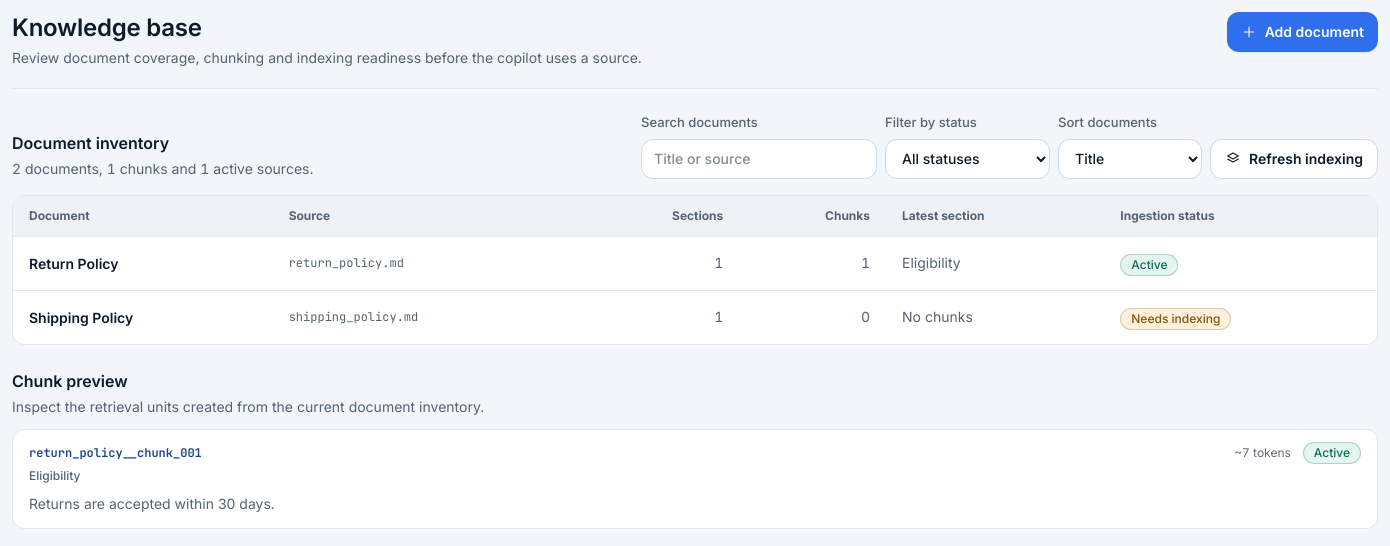
Scenario: KnowledgeWorkspace › filters documents by title, source and status
Type "return" into the search field labelled "Search documents" at point(759, 158), box [641,138,877,178]
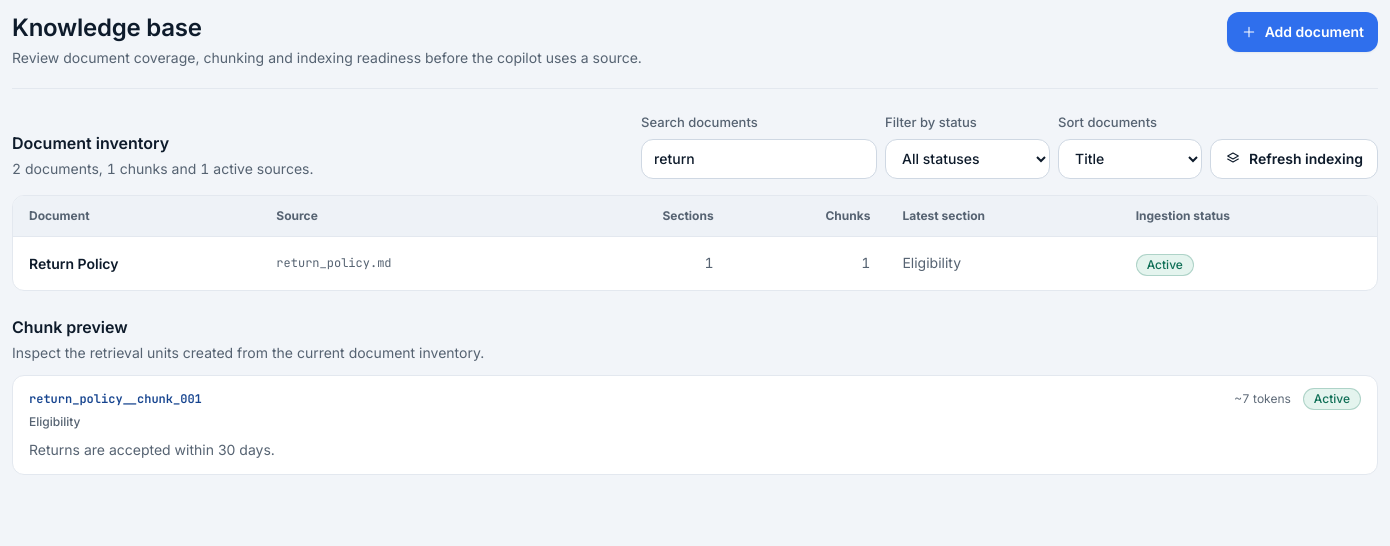
Expected: the row "Return Policy return_policy.md 1 1 Eligibility Active" is shown, [13,236,1377,290]
Expected: the button "Shipping Policy" is gone
Replace the text in the search field labelled "Search documents" with "shipping_policy.md" at point(759, 158), box [641,138,877,178]
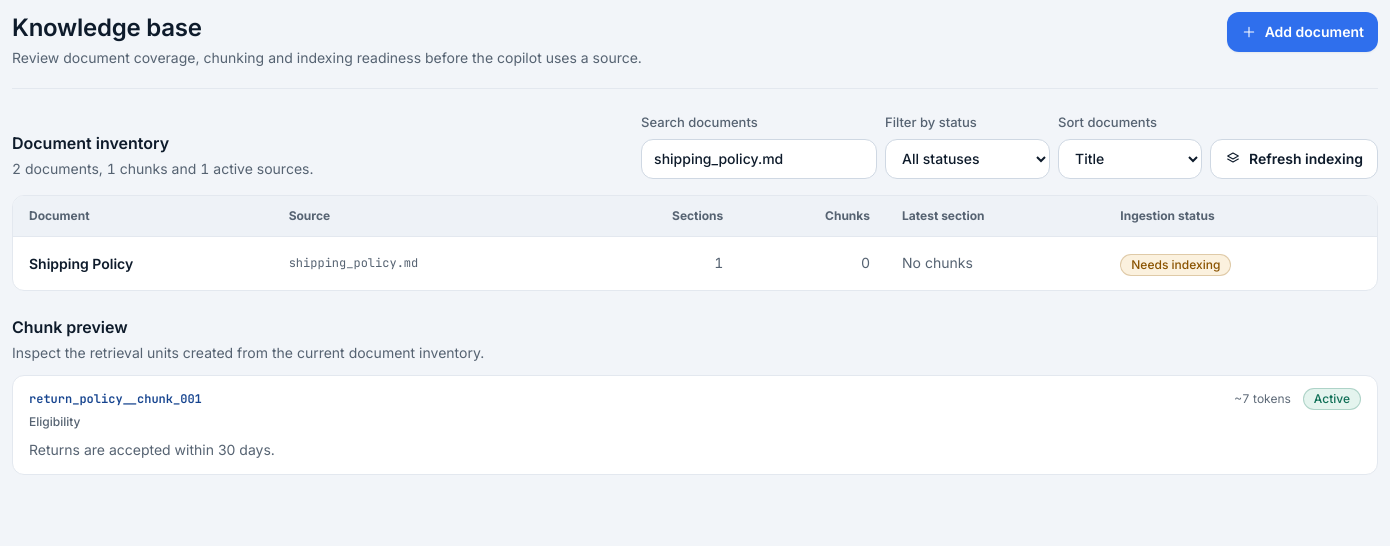
Expected: the row "Shipping Policy" is shown, [13,236,1377,290]
Expected: the button "Return Policy" is gone
Clear the search field labelled "Search documents" at point(759, 158), box [641,138,877,178]
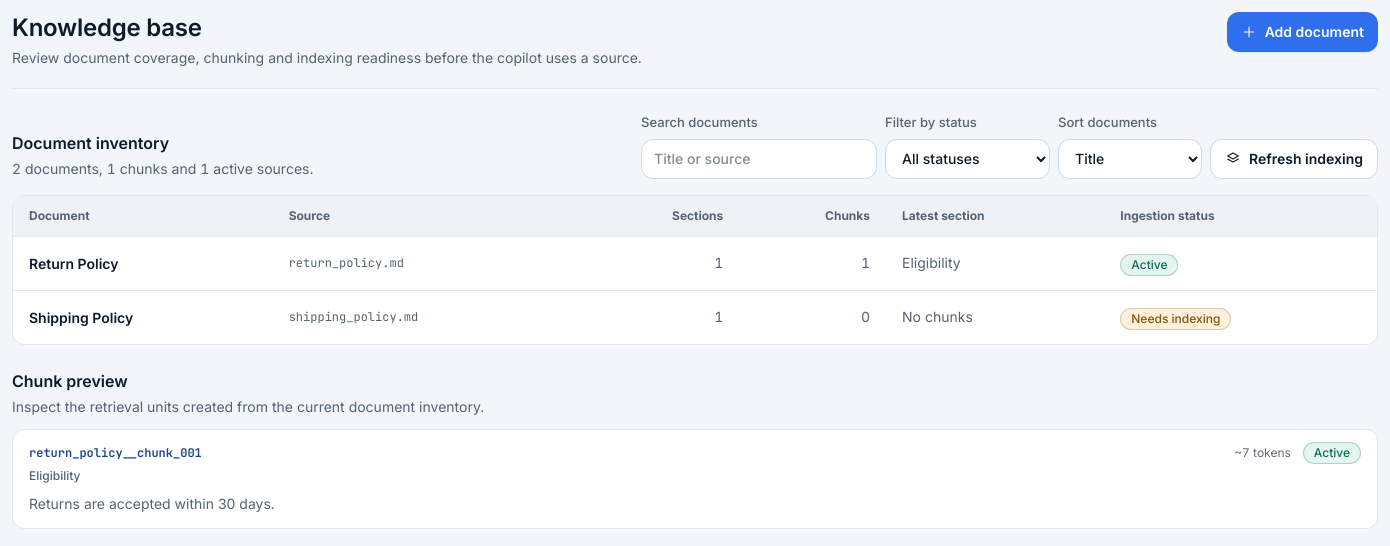
Select "Needs indexing" in the dropdown labelled "Filter by status" at point(968, 158), box [885,138,1050,178]
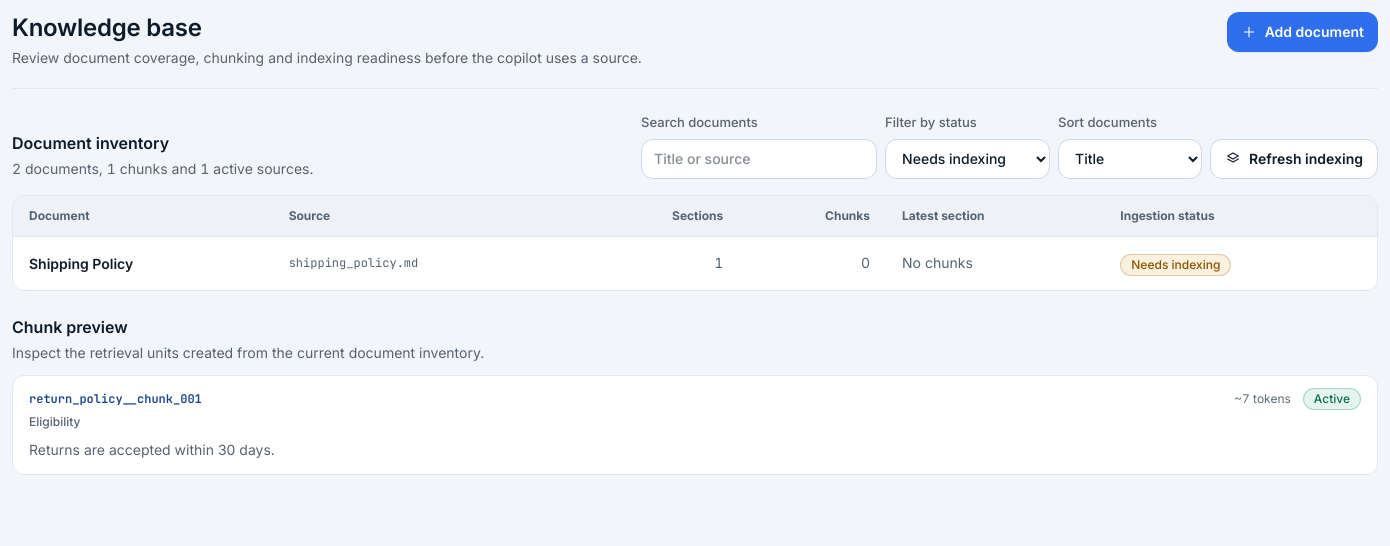
Expected: the row "Shipping Policy" is shown, [13,236,1377,290]
Expected: the button "Return Policy" is gone
